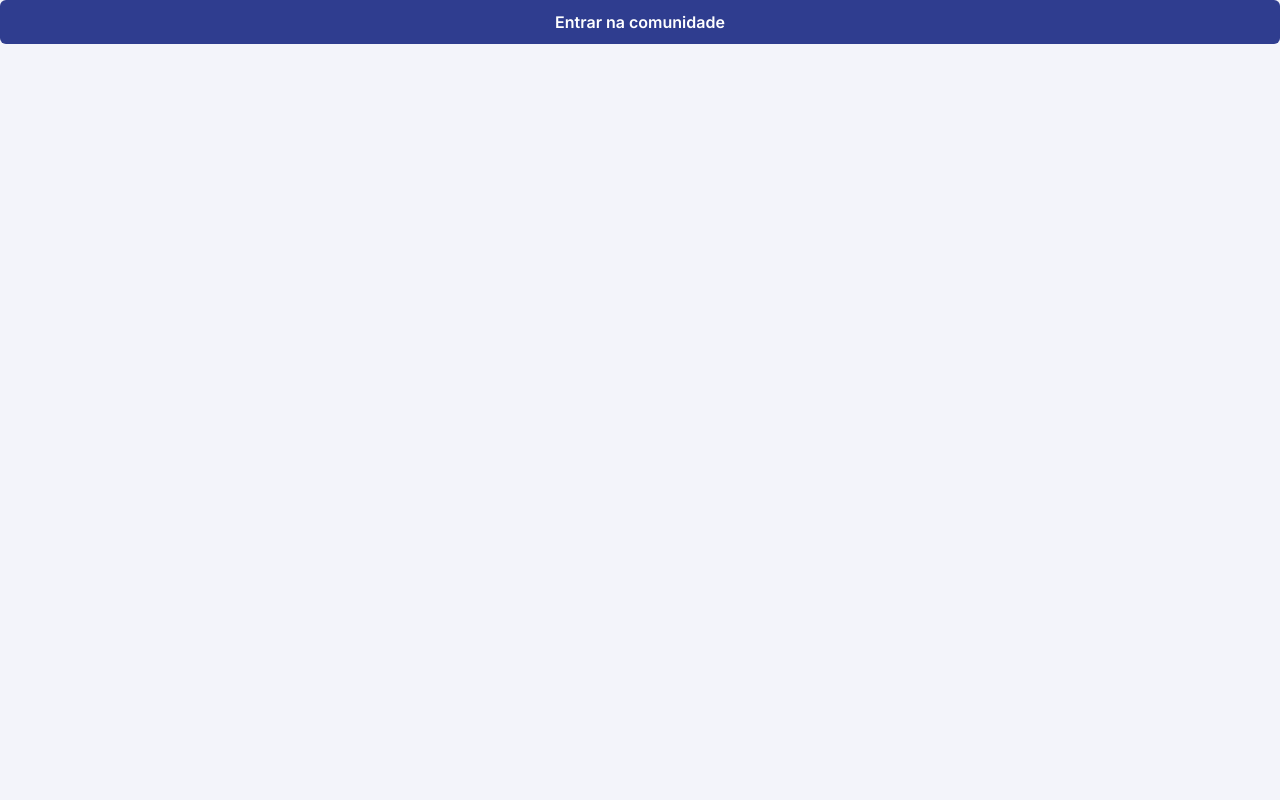
Test: botão de entrar e sair da comunidade › pede confirmação explícita antes de entrar
The width and height of the screenshot is (1280, 800).
Later steps or results of the test are not shown.
Click the button "Entrar na comunidade" at (640, 22), box [0,0,1279,44]
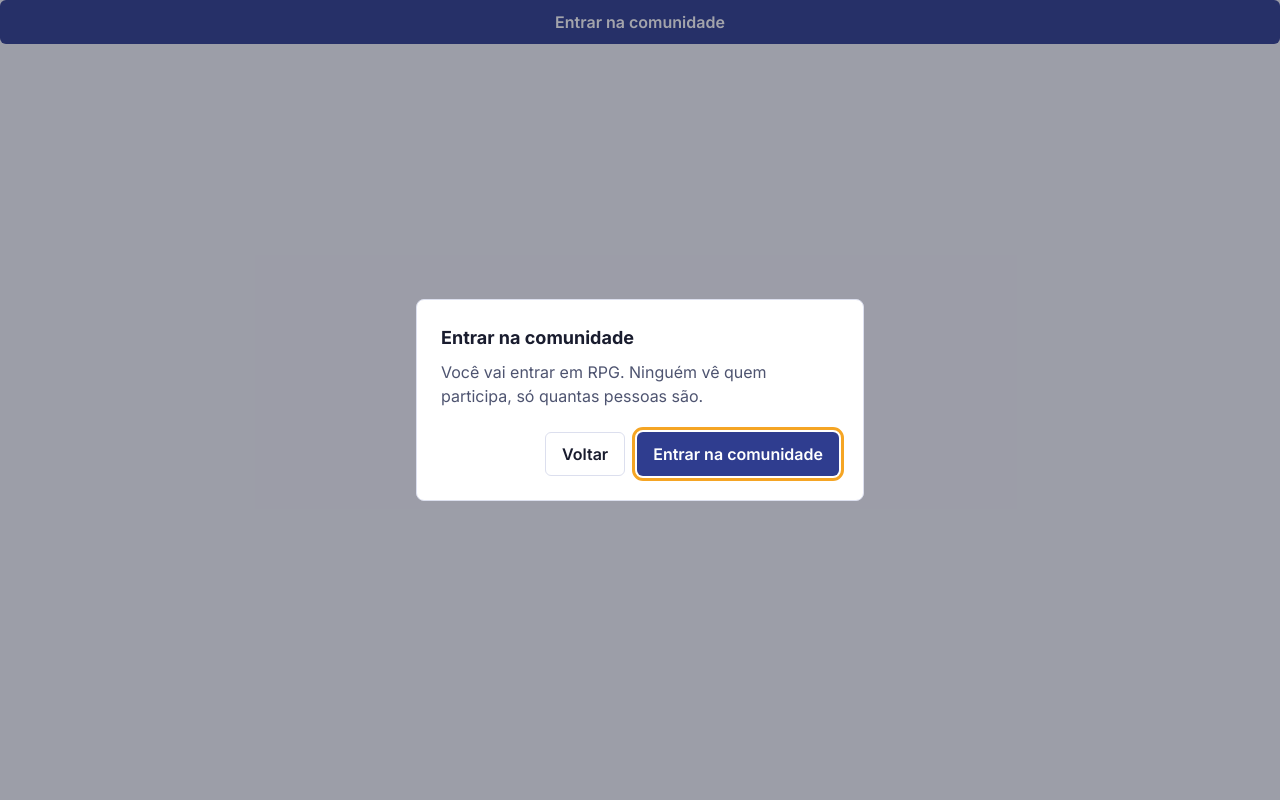
Expected: the dialog shows "Entrar na comunidade", [441,327,634,348]
Expected: the dialog shows "Você vai entrar em RPG.", [441,362,767,406]
